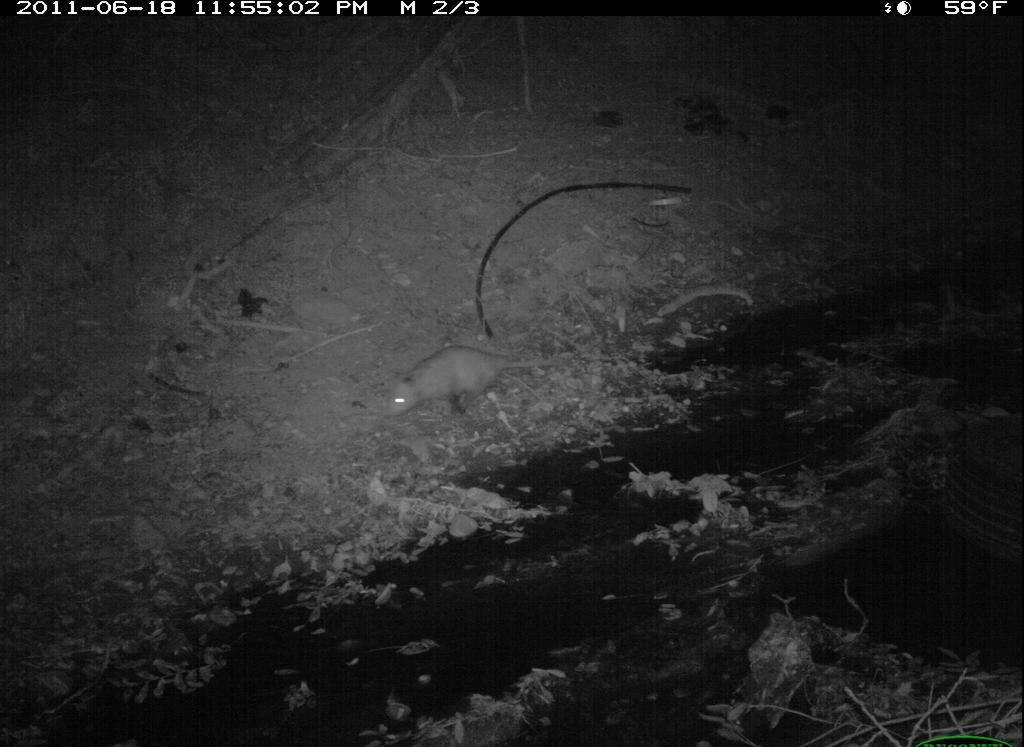opossum: (388, 329, 577, 429)
